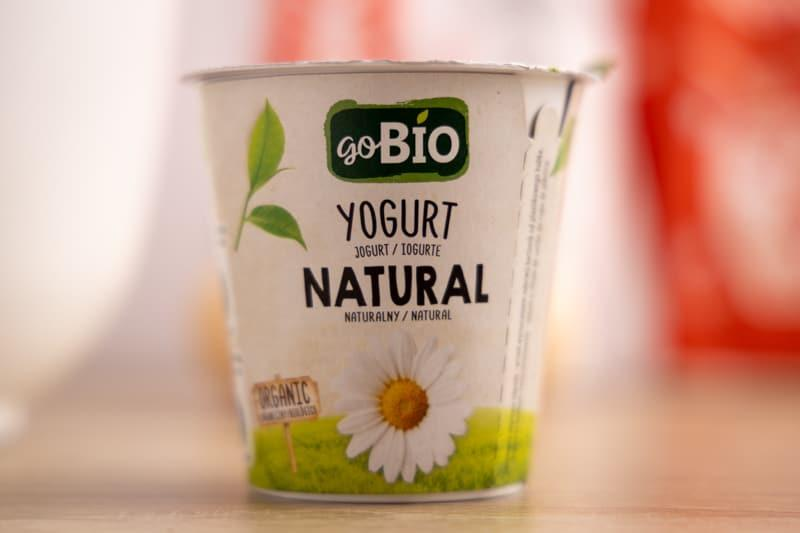cardboard: (196, 62, 585, 501)
metal: (196, 62, 586, 501)
